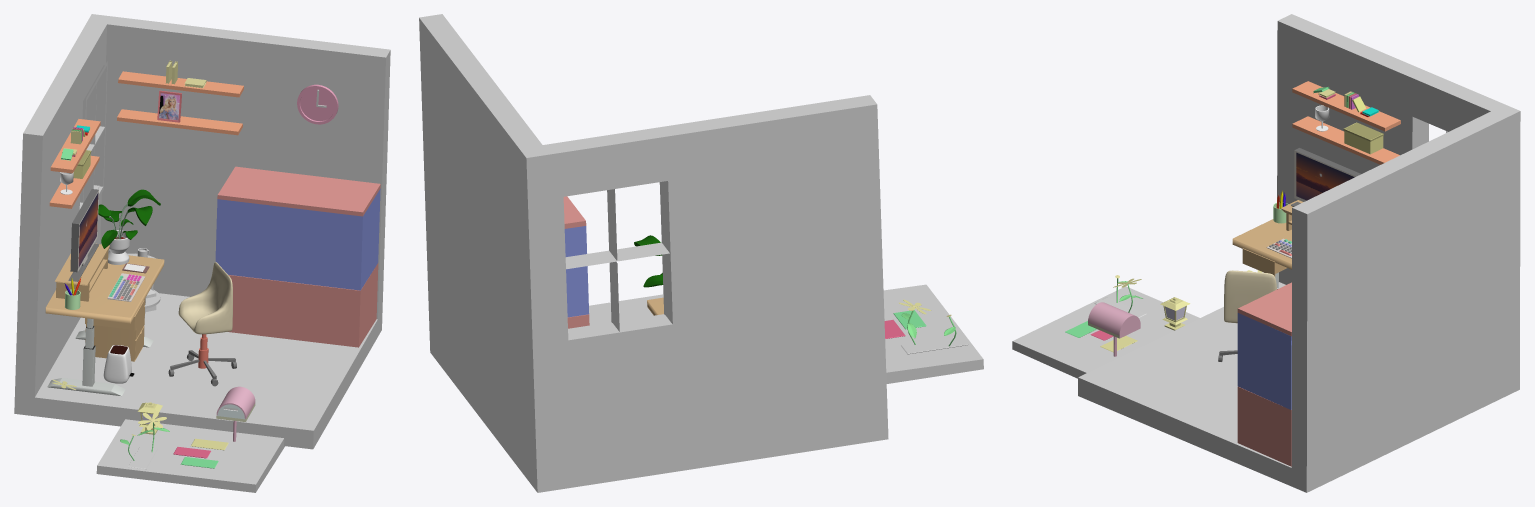
Rendered from roomwithnoanim.glb.
The picture shows the model from 3 angles, left to right: view 1: azimuth 30°, elevation 25°; view 2: azimuth 150°, elevation 25°; view 3: azimuth 270°, elevation 25°; orthographic projection. The views are drawn at different scales.
Parts seen in each view (by area): view 1: Cube.001, Cube.002, fish tank, Cube.021, Table top, chair seat, Plane, shelf1.001, shelf1.002, computer table, Cylinder.010, computer (+14 smaller); view 2: Cube.001, Cube.021, Plane, fish tank, Cube.002, Plane.006; view 3: Cube.001, Cube.021, Cube.002, fish tank, chair seat, computer.001, Table top, shelf2, Cylinder.013, shelf1, shelf3, Plane (+2 smaller).
Boxes of the visible parts, x1=… form: Cube.001: x1=14, y1=14, x2=390, y2=449; Cube.002: x1=217, y1=166, x2=380, y2=347; fish tank: x1=215, y1=188, x2=380, y2=290; Cube.021: x1=96, y1=419, x2=284, y2=492; Table top: x1=45, y1=255, x2=164, y2=323; chair seat: x1=178, y1=262, x2=232, y2=334; Plane: x1=80, y1=61, x2=107, y2=203; shelf1.001: x1=117, y1=109, x2=242, y2=135; shelf1.002: x1=118, y1=71, x2=243, y2=97; computer table: x1=55, y1=243, x2=109, y2=301; Cylinder.010: x1=297, y1=84, x2=338, y2=124; computer: x1=68, y1=189, x2=99, y2=281; Cube.001: x1=419, y1=14, x2=888, y2=492; Cube.021: x1=883, y1=284, x2=983, y2=383; Plane: x1=565, y1=181, x2=672, y2=331; fish tank: x1=564, y1=226, x2=589, y2=317; Cube.002: x1=563, y1=196, x2=589, y2=328; Plane.006: x1=901, y1=336, x2=967, y2=354; Cube.001: x1=1078, y1=14, x2=1520, y2=492; Cube.021: x1=1012, y1=286, x2=1199, y2=378; Cube.002: x1=1237, y1=282, x2=1291, y2=466; fish tank: x1=1237, y1=313, x2=1291, y2=409; chair seat: x1=1224, y1=270, x2=1276, y2=323; computer.001: x1=1296, y1=152, x2=1354, y2=200; Table top: x1=1232, y1=219, x2=1291, y2=269; shelf2: x1=1292, y1=81, x2=1400, y2=131; Cylinder.013: x1=1088, y1=302, x2=1140, y2=356; shelf1: x1=1292, y1=116, x2=1399, y2=164; shelf3: x1=1343, y1=122, x2=1383, y2=154; Plane: x1=1410, y1=112, x2=1452, y2=150.
Bounding box in the file's own units: 28.87 × 20.91 × 32.43.
Materials: 56 (2 with a texture image).
